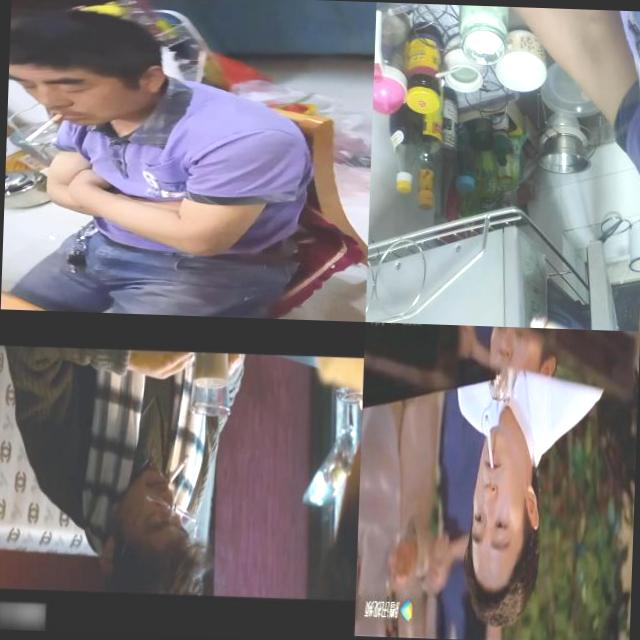cigarette: (527, 310, 635, 331), (24, 112, 63, 142), (163, 453, 189, 488), (482, 413, 495, 468)
